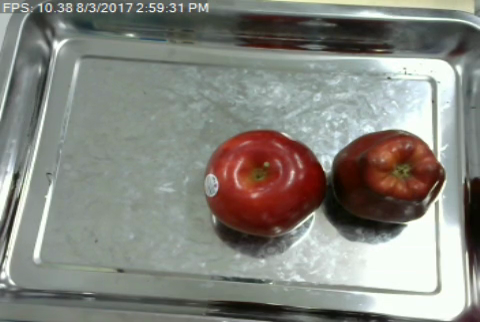Apple: (201, 125, 330, 241), (327, 125, 448, 224)
